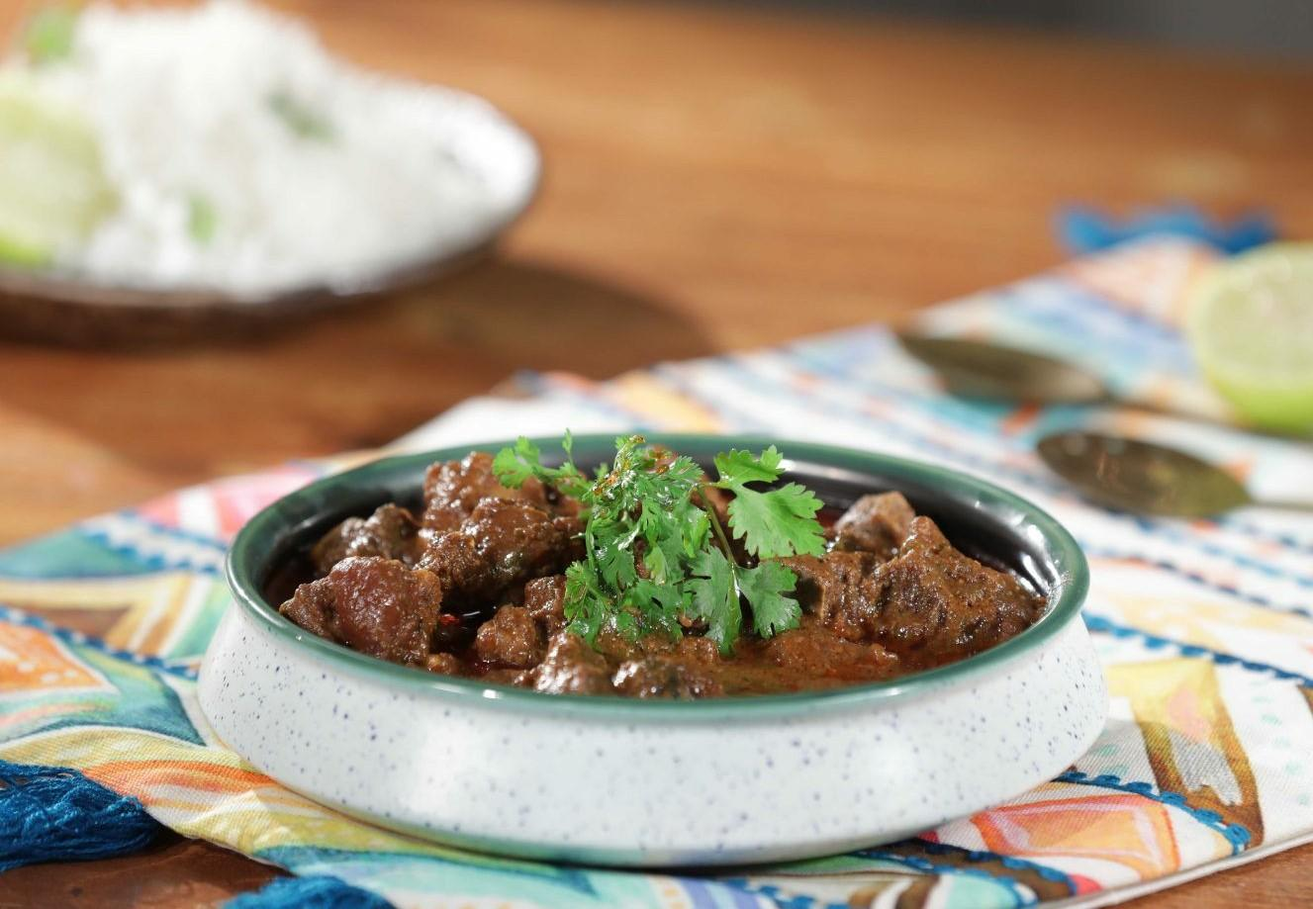MuttonCurry: (278, 424, 1047, 694)
